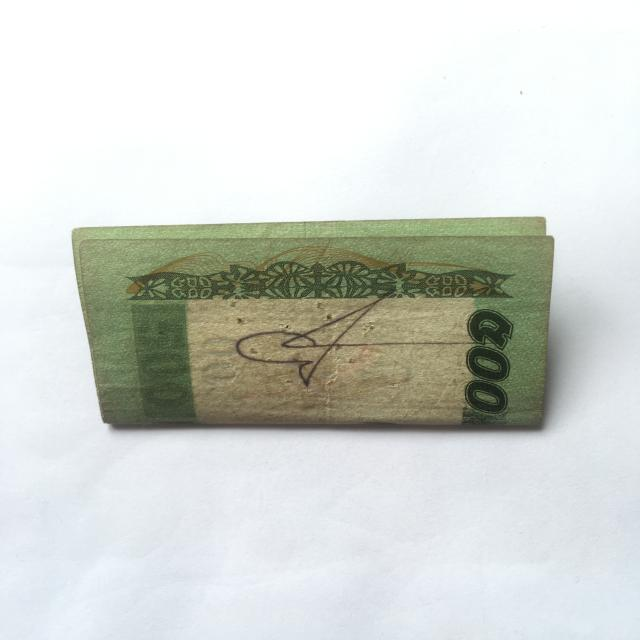Taka: (65, 209, 552, 435)
